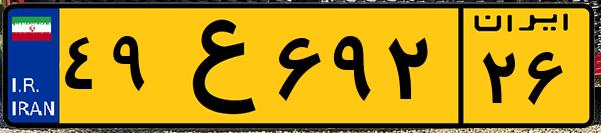2: (385, 28, 445, 110), (475, 38, 525, 113)
4: (57, 26, 110, 100)
6: (270, 28, 330, 110), (525, 38, 570, 115)
9: (330, 28, 385, 110), (110, 28, 158, 98)
ع: (158, 12, 270, 120)
